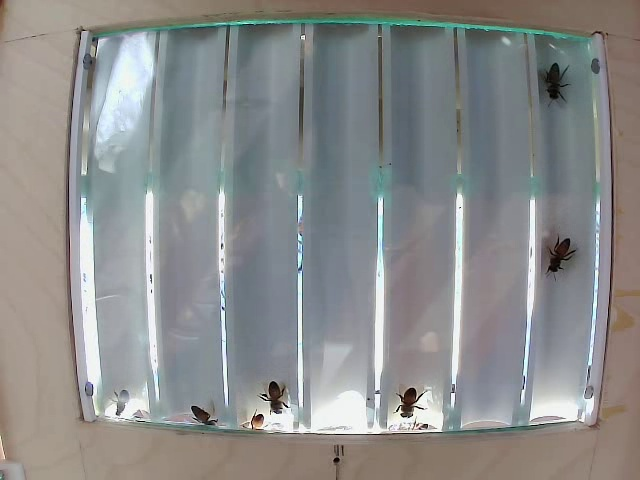bee: (539, 51, 583, 112), (389, 379, 437, 428), (548, 230, 574, 288)
